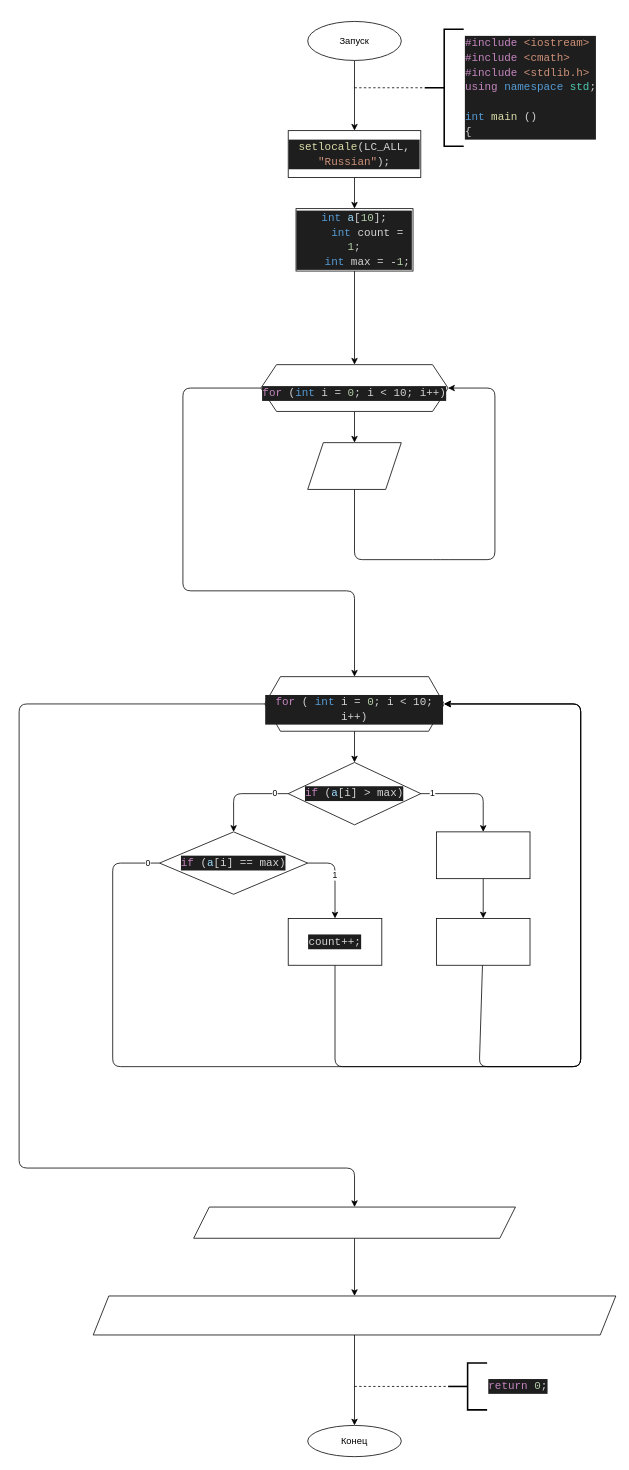
Some shapes in this 629 by 1470 pixel diagram are drawn without their labels. The shapes that lost their labels are listed below. From the top down, each one's centre as x and y in pixels, then its label:
the point at 354,465: cin << a [i];
the point at 483,855: max = a [i];
the point at 483,941: count = 1 ;
the point at 354,1222: cout << "Максимальное значение: " << max << endl;
the point at 354,1315: cout << "Количество элементов с этим максимальным значением: " << count << endl;
